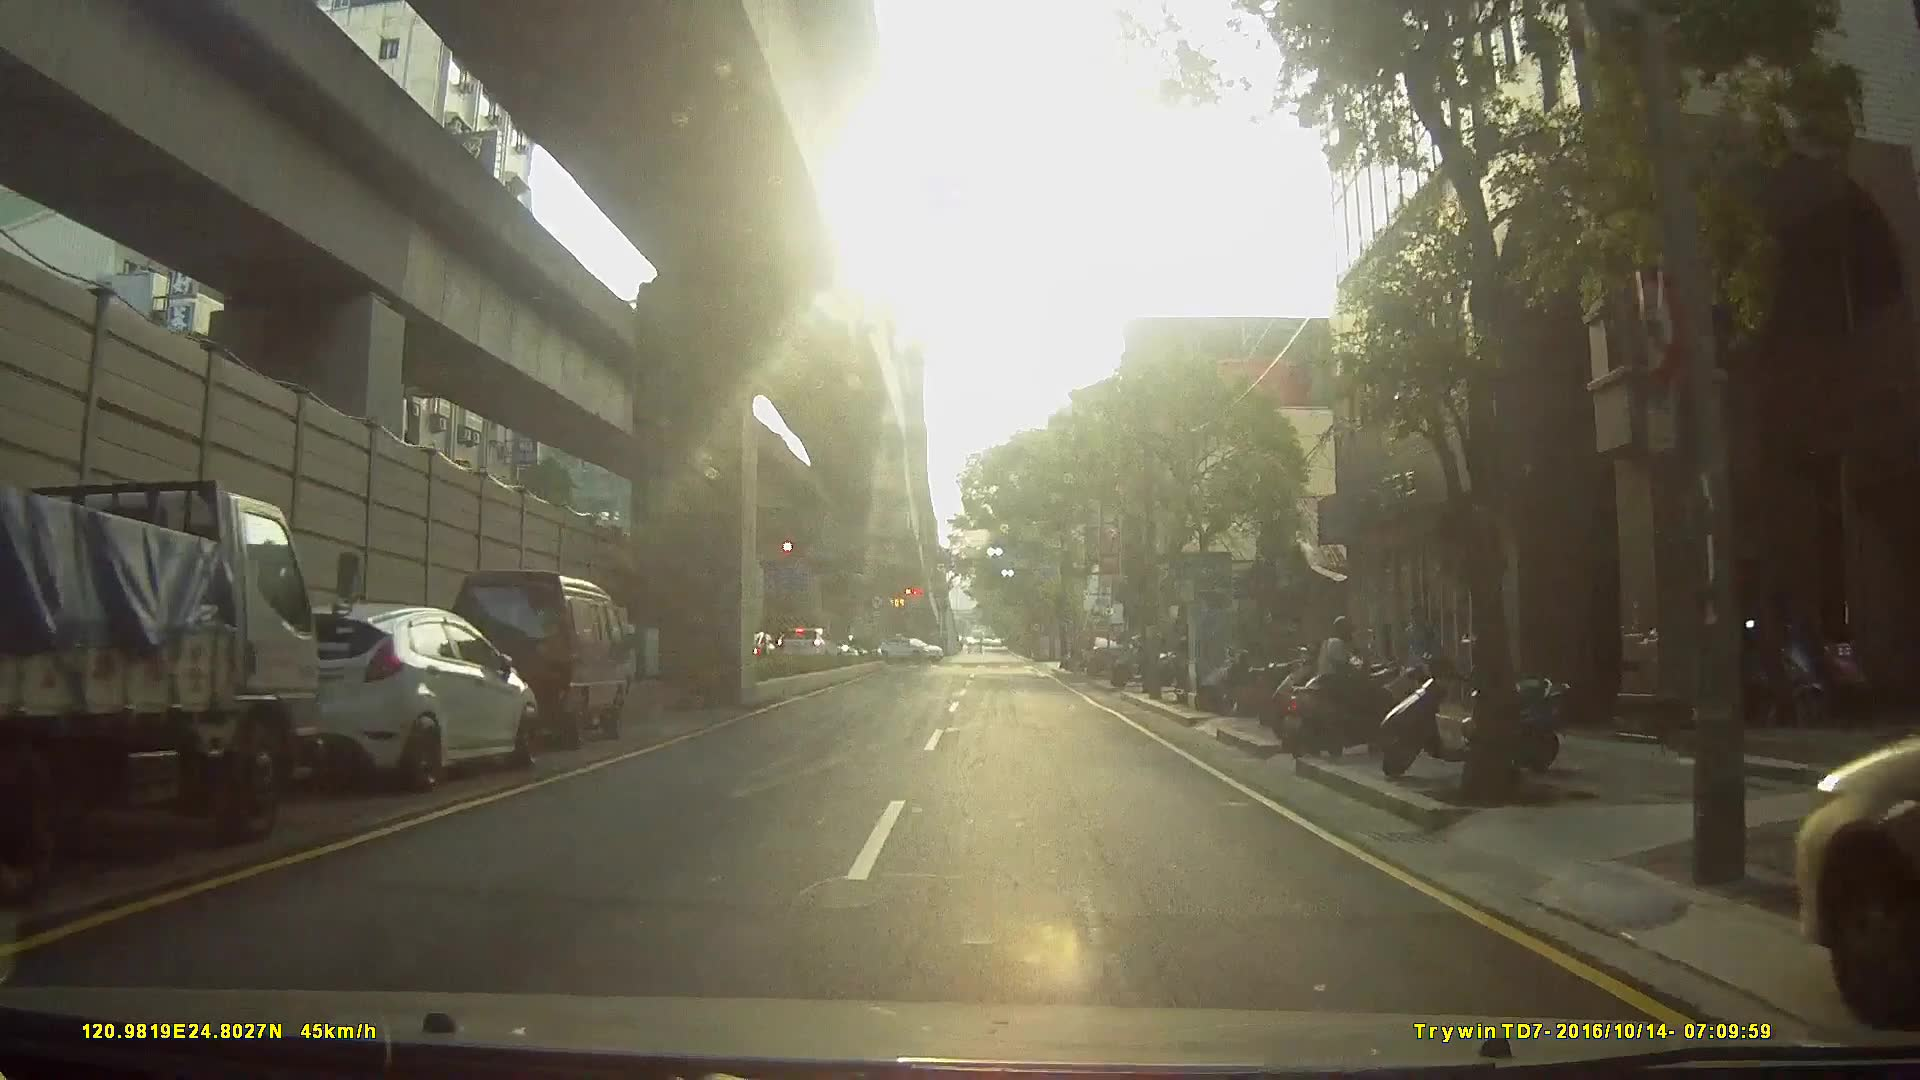pedestrian: (1396, 597, 1446, 721)
rider: (1279, 607, 1421, 755)
vehicle: (1, 460, 379, 867), (232, 584, 539, 797), (433, 561, 634, 747), (774, 624, 840, 666), (1078, 633, 1126, 675), (876, 633, 941, 660)
